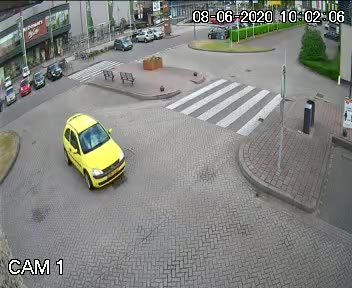car: (43, 113, 143, 194)
